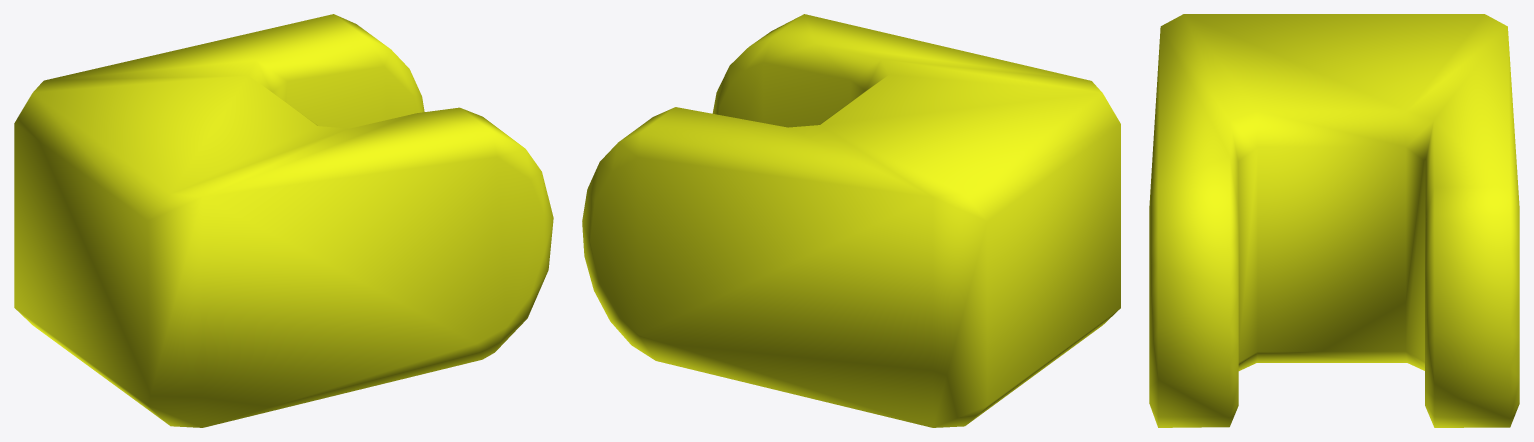
Rendered from membre5.fbx.
3 renders of one model, left to right at view 1: azimuth 30°, elevation 25°; view 2: azimuth 150°, elevation 25°; view 3: azimuth 270°, elevation 25°, orthographic. The views are drawn at different scales.
Visible parts, largest first — view 1: membre5; view 2: membre5; view 3: membre5.
Part boxes in pixels (left/top/right/bottom): membre5: left=14, top=14, right=553, bottom=427; membre5: left=582, top=14, right=1120, bottom=427; membre5: left=1149, top=14, right=1519, bottom=427.
Size of the model in its own units: 260 by 148 by 195.
